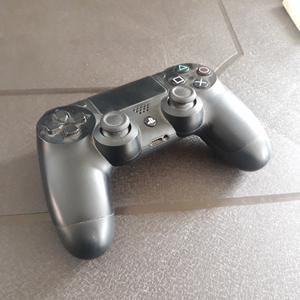controller: (36, 63, 270, 259)
